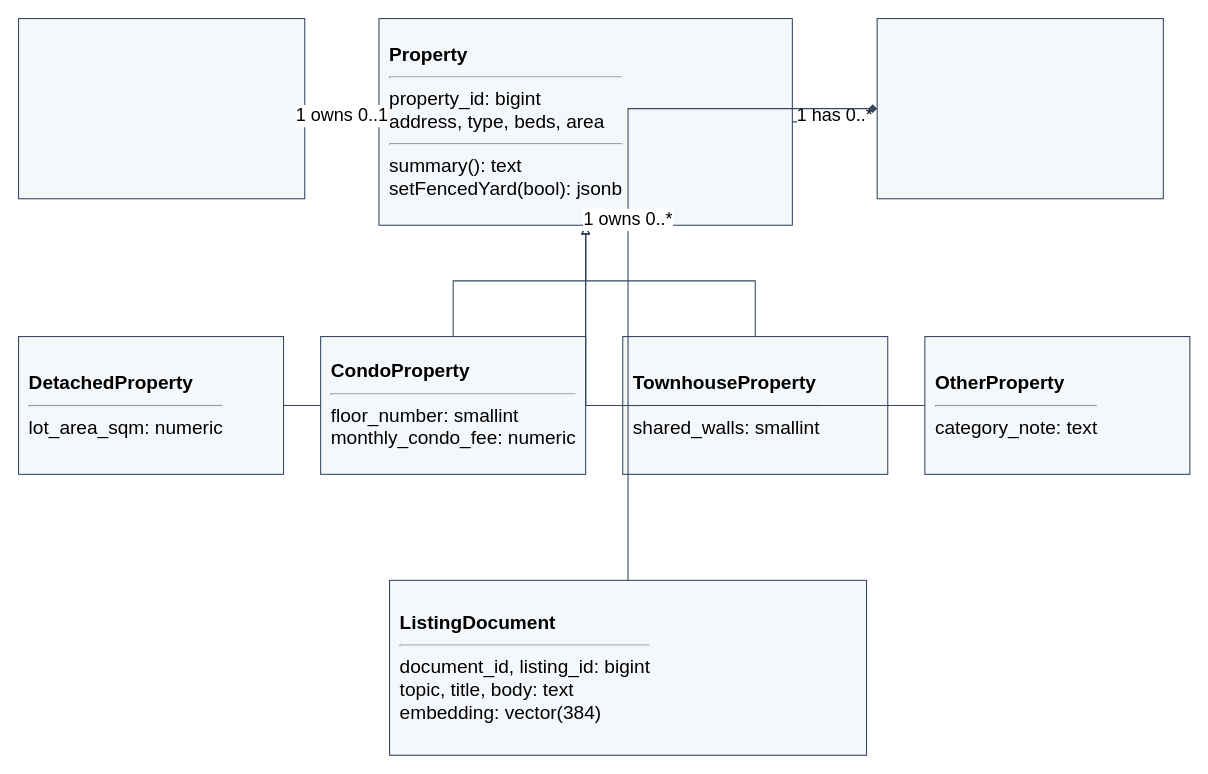
The diagram is 1208 pixels wide and 774 high, and some of its shapes have lost their labels. Each missing label, with the centre of its shape:
"Listing listing_id: bigint property_id: bigint price, status" goes at pixel 1019 108.
"PropertyFeatures property_id: bigint features: jsonb setFencedYard(bool)" goes at pixel 161 108.
